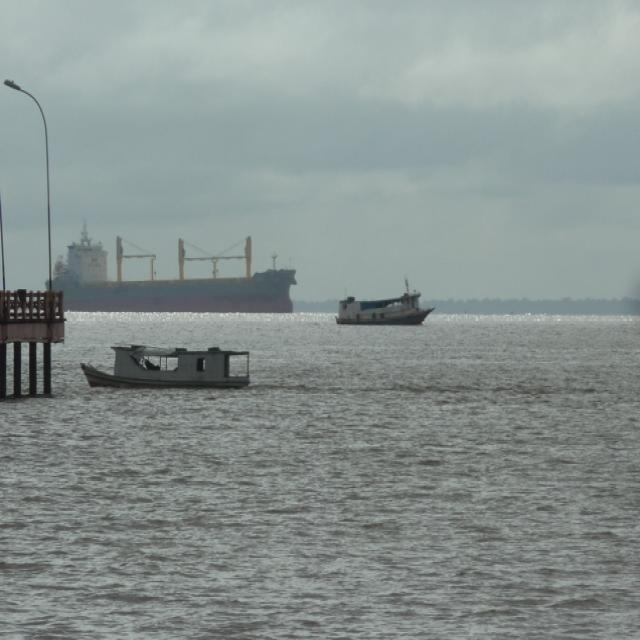cargoship: (41, 218, 303, 322)
fishing boat: (82, 326, 255, 392), (325, 284, 430, 335)
